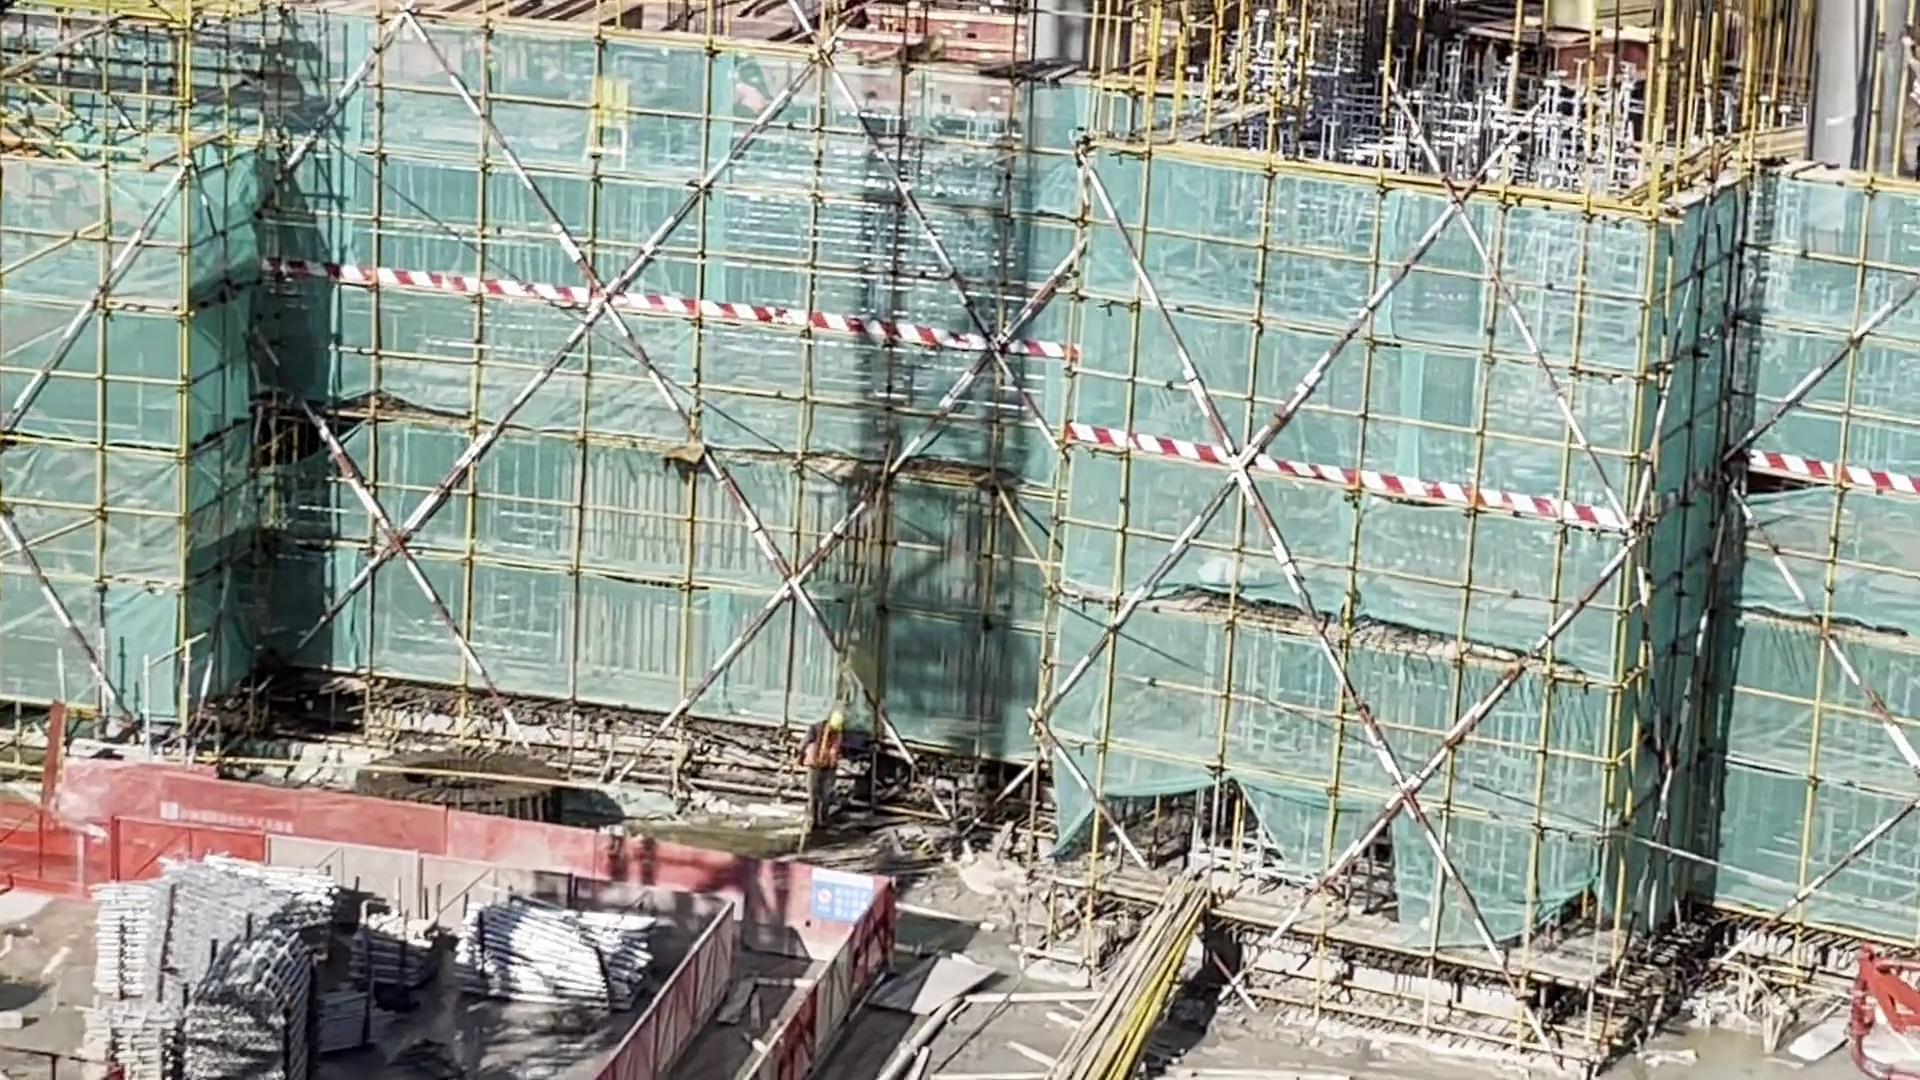fence: (5, 770, 802, 957), (590, 918, 867, 1080)
helmet: (830, 711, 842, 730)
person: (801, 714, 846, 831)
scaffold: (105, 861, 338, 979), (450, 910, 647, 1010), (194, 962, 297, 1080), (350, 915, 431, 989)
slogan: (809, 865, 877, 929)
vest: (809, 723, 840, 769)
